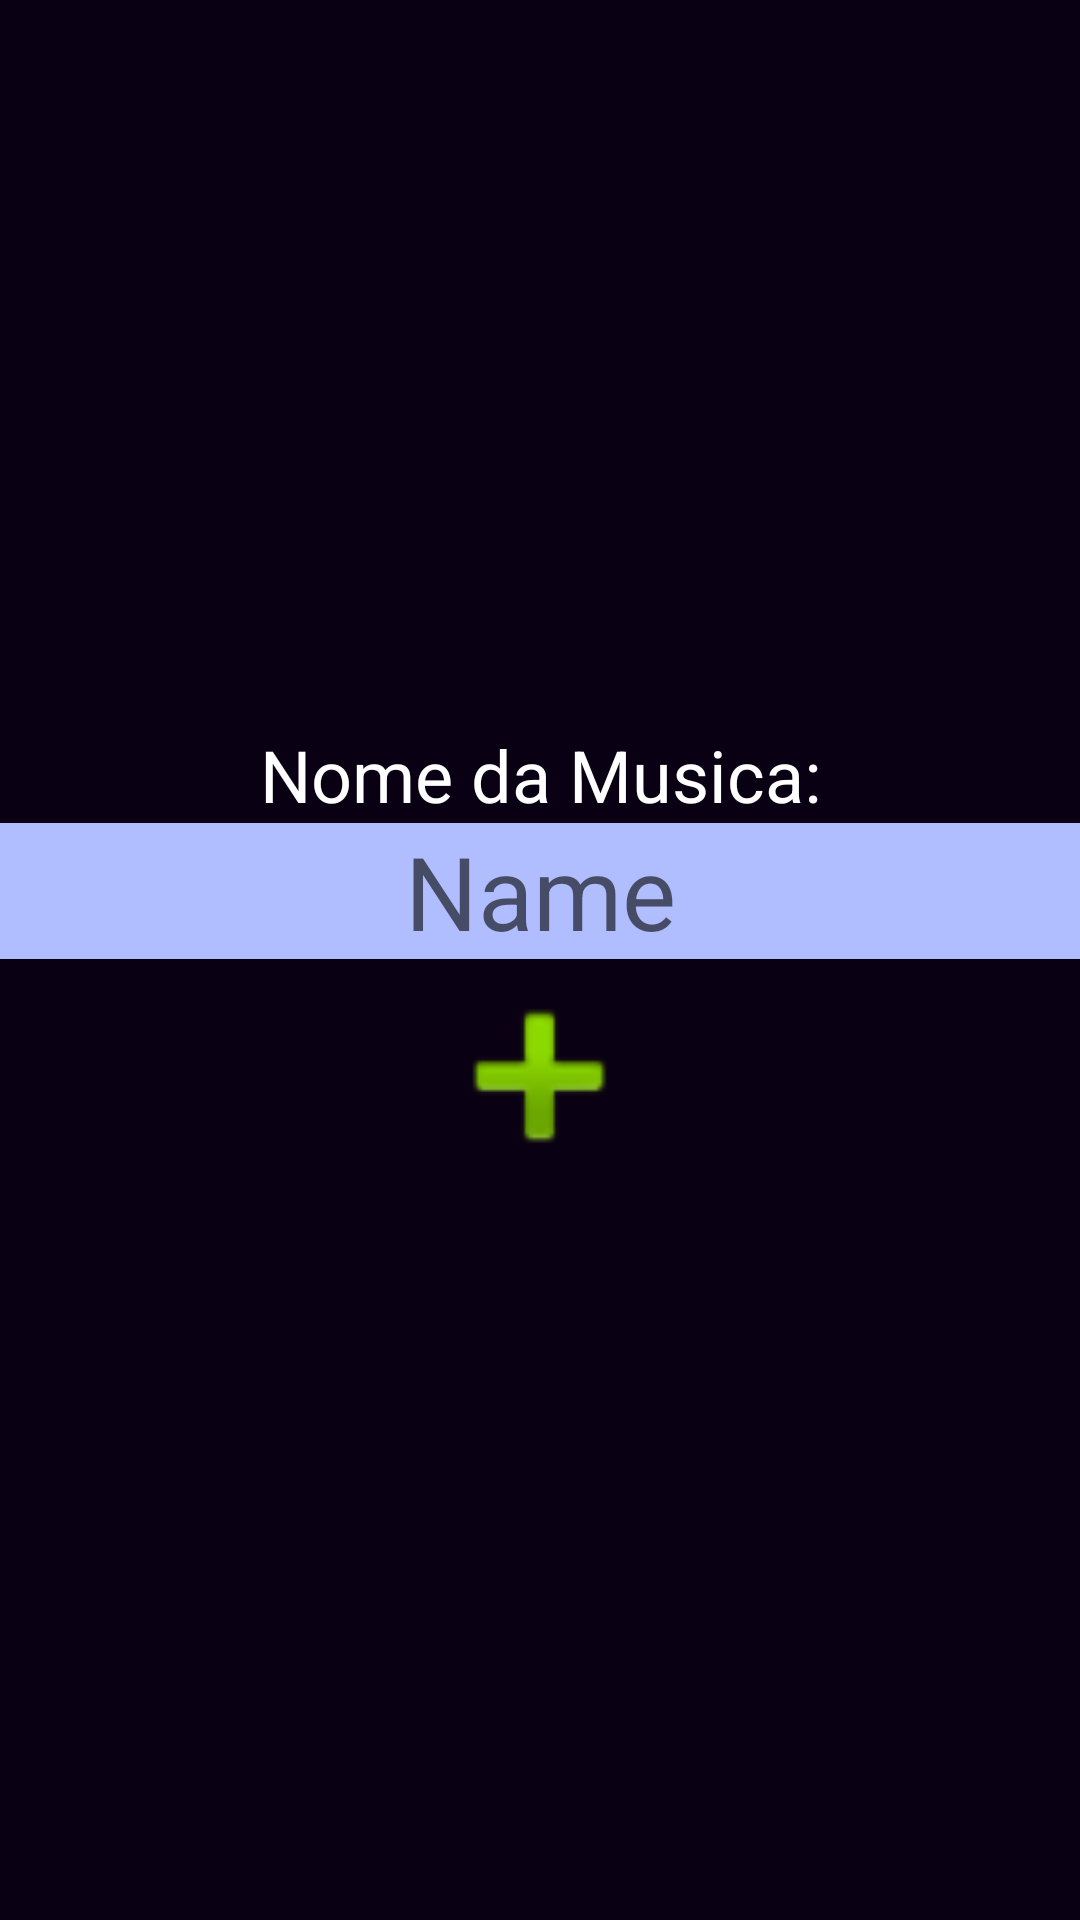

Where to tap for icons on this 1080 × 1920 app screen, as [x,y]:
add: [539,1076]
